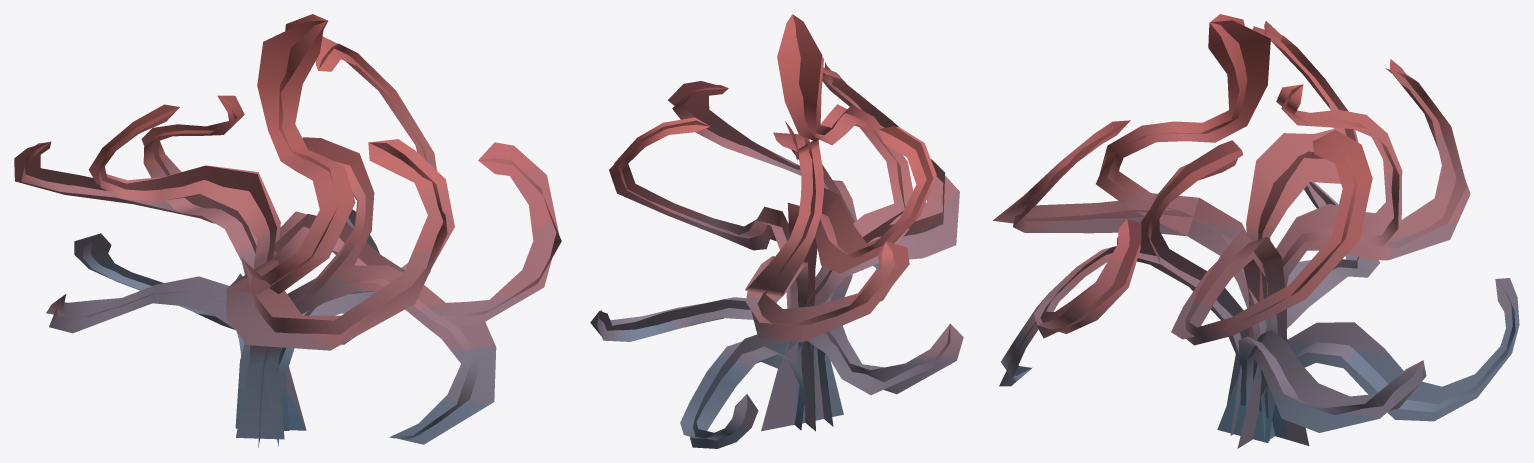
File: model_coral_04.fbx
3 renders of one model, left to right at view 1: azimuth 30°, elevation 25°; view 2: azimuth 150°, elevation 25°; view 3: azimuth 270°, elevation 25°, orthographic. The views are drawn at different scales.
Parts seen in each view (by area): view 1: coral_04_geo; view 2: coral_04_geo; view 3: coral_04_geo.
Boxes of the visible parts, <box> form: coral_04_geo: <box>14,14,561,447</box>; coral_04_geo: <box>590,14,963,448</box>; coral_04_geo: <box>993,14,1519,448</box>.
Size of the model in its own units: 16.55 by 16.21 by 17.97.
